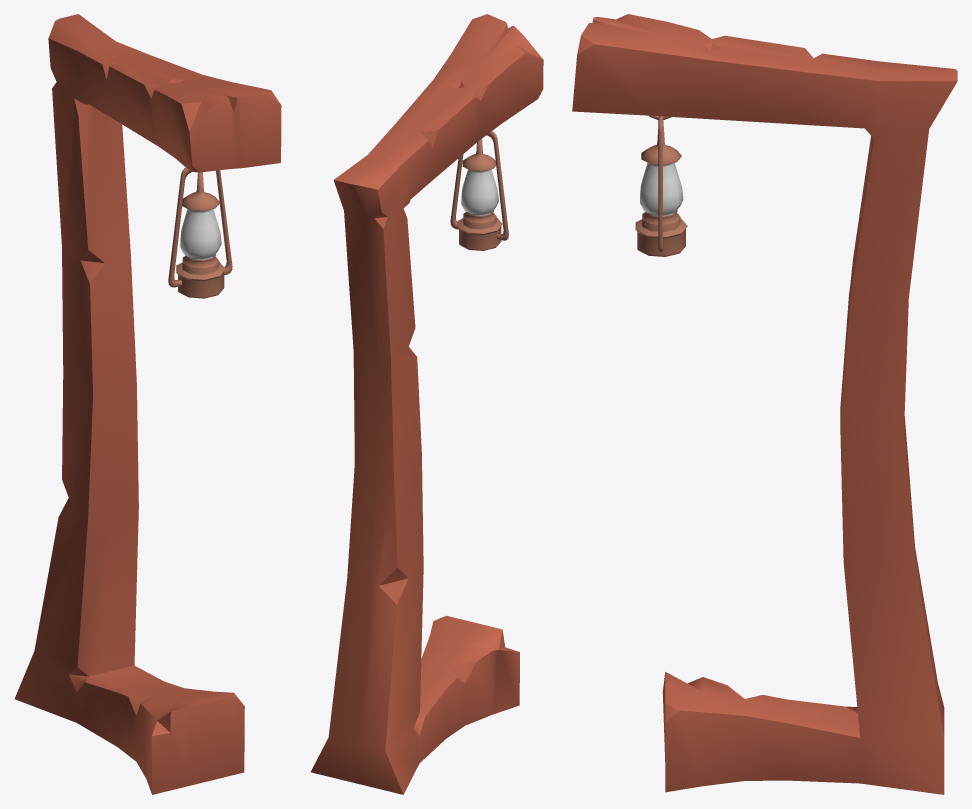
File: PostLight.fbx
3 renders of one model, left to right at view 1: azimuth 30°, elevation 25°; view 2: azimuth 150°, elevation 25°; view 3: azimuth 270°, elevation 25°, orthographic. The views are drawn at different scales.
Visible parts, largest first — view 1: PostLamp, Lamp; view 2: PostLamp, Lamp; view 3: PostLamp, Lamp.
Part boxes in pixels (x1,y1,x2,y2): PostLamp: (14,14,281,794); Lamp: (168,167,232,298); PostLamp: (311,14,543,794); Lamp: (450,131,508,250); PostLamp: (572,14,957,794); Lamp: (635,115,687,256).
Bounding box in the file's own units: 4.95 × 32.89 × 15.35.
